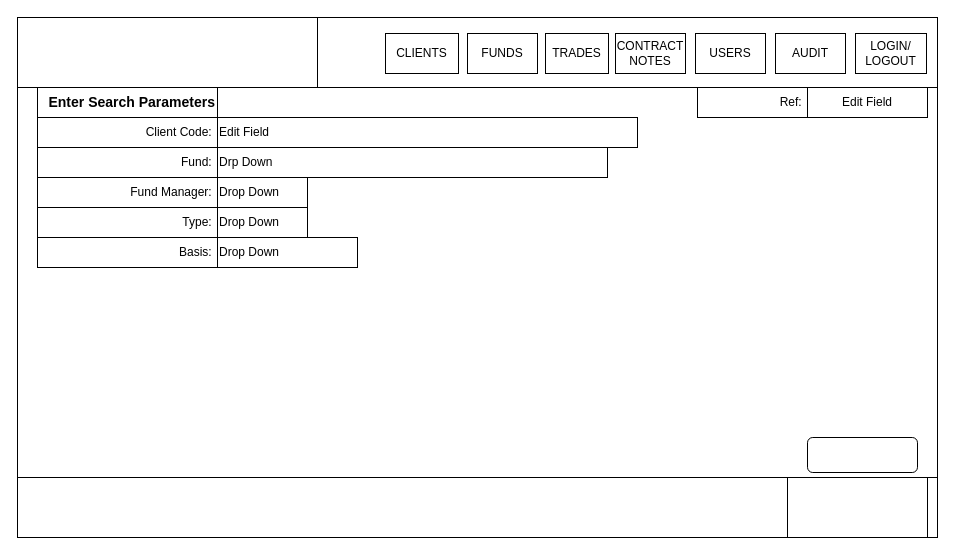
Some shapes in this 955 by 555 pixel diagram are drawn without their labels. The shapes that lost their labels are listed below. From the top down, each one's box as (x1, y1, x2, y2) in pixels, then its label:
(16, 16, 318, 88): FUND BROKER: TRADE SEARCH
(806, 436, 918, 472): Search
(786, 476, 928, 538): Copywright 2024 Richard Maida Jimenez
